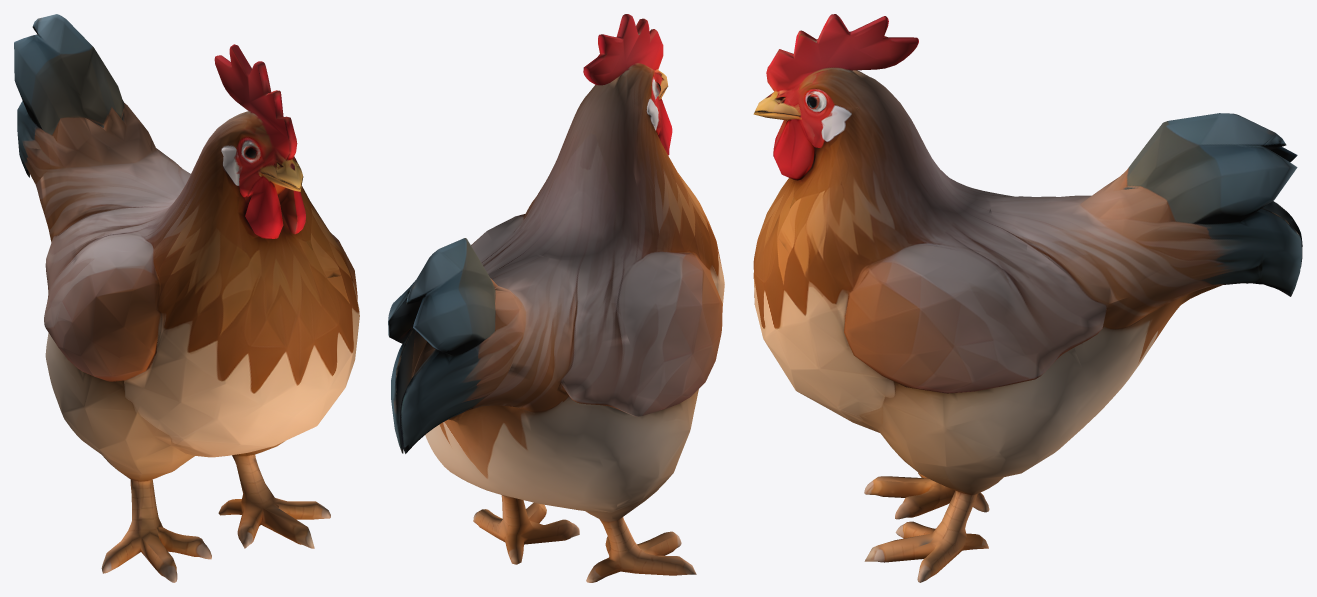
Rendered from animal_chicken_brown_r_game_multimesh.glb.
The picture shows the model from 3 angles, left to right: view 1: azimuth 30°, elevation 25°; view 2: azimuth 150°, elevation 25°; view 3: azimuth 270°, elevation 25°; orthographic projection. The views are drawn at different scales.
Parts seen in each view (by area): view 1: mesh_body, mesh_tail, mesh_head, mesh_leg_R, mesh_leg_L, mesh_beak; view 2: mesh_body, mesh_tail, mesh_head, mesh_leg_L, mesh_leg_R; view 3: mesh_body, mesh_head, mesh_tail, mesh_leg_R, mesh_leg_L, mesh_beak.
Part boxes in pixels (x1=…): mesh_body: x1=44, y1=49, x2=359, y2=520; mesh_tail: x1=14, y1=14, x2=155, y2=242; mesh_head: x1=214, y1=44, x2=303, y2=238; mesh_leg_R: x1=218, y1=454, x2=330, y2=548; mesh_leg_L: x1=101, y1=479, x2=211, y2=582; mesh_beak: x1=269, y1=91, x2=305, y2=238; mesh_body: x1=391, y1=69, x2=724, y2=549; mesh_tail: x1=388, y1=238, x2=574, y2=455; mesh_head: x1=539, y1=14, x2=672, y2=243; mesh_leg_L: x1=586, y1=519, x2=696, y2=582; mesh_leg_R: x1=473, y1=495, x2=579, y2=564; mesh_body: x1=753, y1=74, x2=1301, y2=495; mesh_head: x1=754, y1=14, x2=967, y2=208; mesh_tail: x1=1097, y1=113, x2=1302, y2=296; mesh_leg_R: x1=864, y1=490, x2=988, y2=582; mesh_leg_L: x1=864, y1=472, x2=989, y2=519; mesh_beak: x1=753, y1=31, x2=799, y2=175.
Size of the model in its own units: 0.2592 by 0.5 by 0.4832.
Materials: 1 (1 with a texture image).
